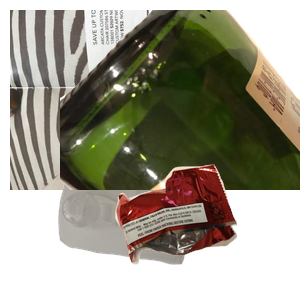glass: (60, 10, 300, 190)
paper: (10, 10, 250, 190)
plastic: (56, 166, 241, 300)
trash: (113, 162, 300, 300)
